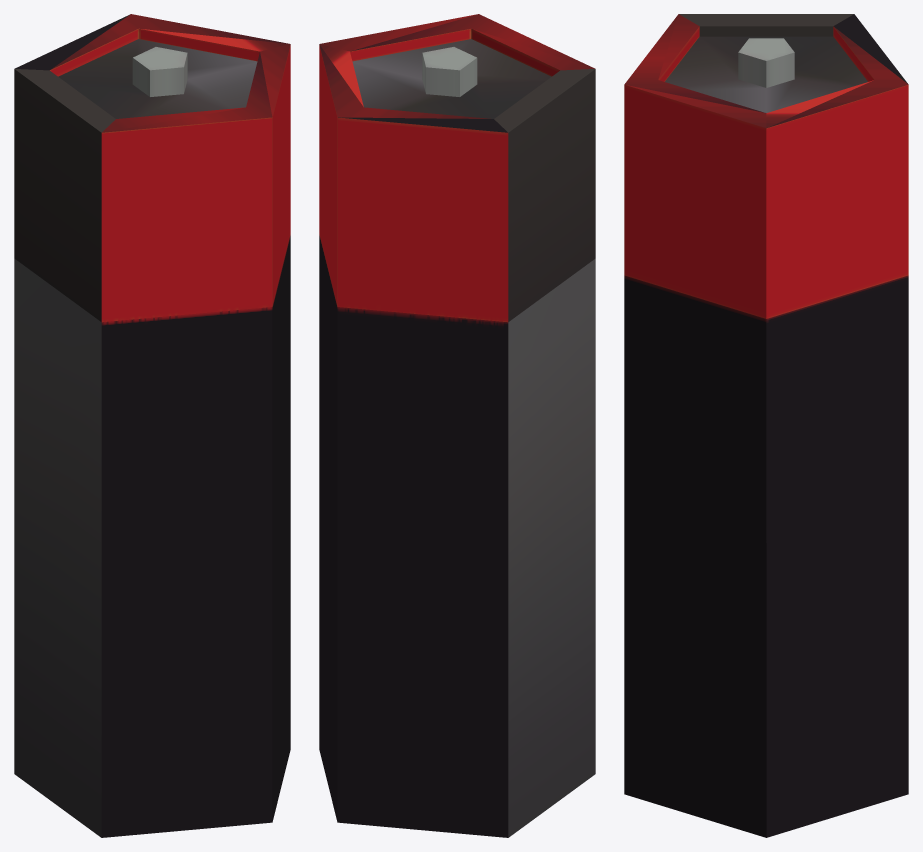
The model's file is Battery.fbx.glb.
The picture shows the model from 3 angles, left to right: view 1: azimuth 30°, elevation 25°; view 2: azimuth 150°, elevation 25°; view 3: azimuth 270°, elevation 25°; orthographic projection.
Visible parts, largest first — view 1: node_id4.2; view 2: node_id4.2; view 3: node_id4.2.
Part boxes in pixels (x1,y1,x2,y2): node_id4.2: (14, 14, 290, 837); node_id4.2: (319, 14, 595, 837); node_id4.2: (624, 14, 908, 837).
Size of the model in its own units: 0.1729 by 0.512 by 0.1818.
1 material, 1 textured.
